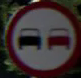No overtake: (8, 11, 76, 65)
